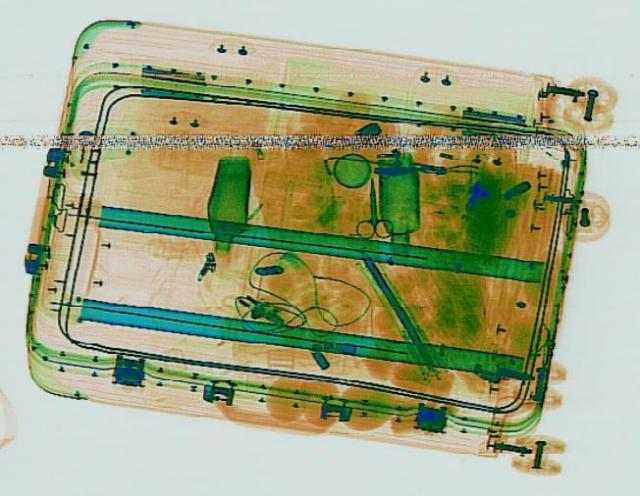Scissors: (349, 177, 391, 238)
